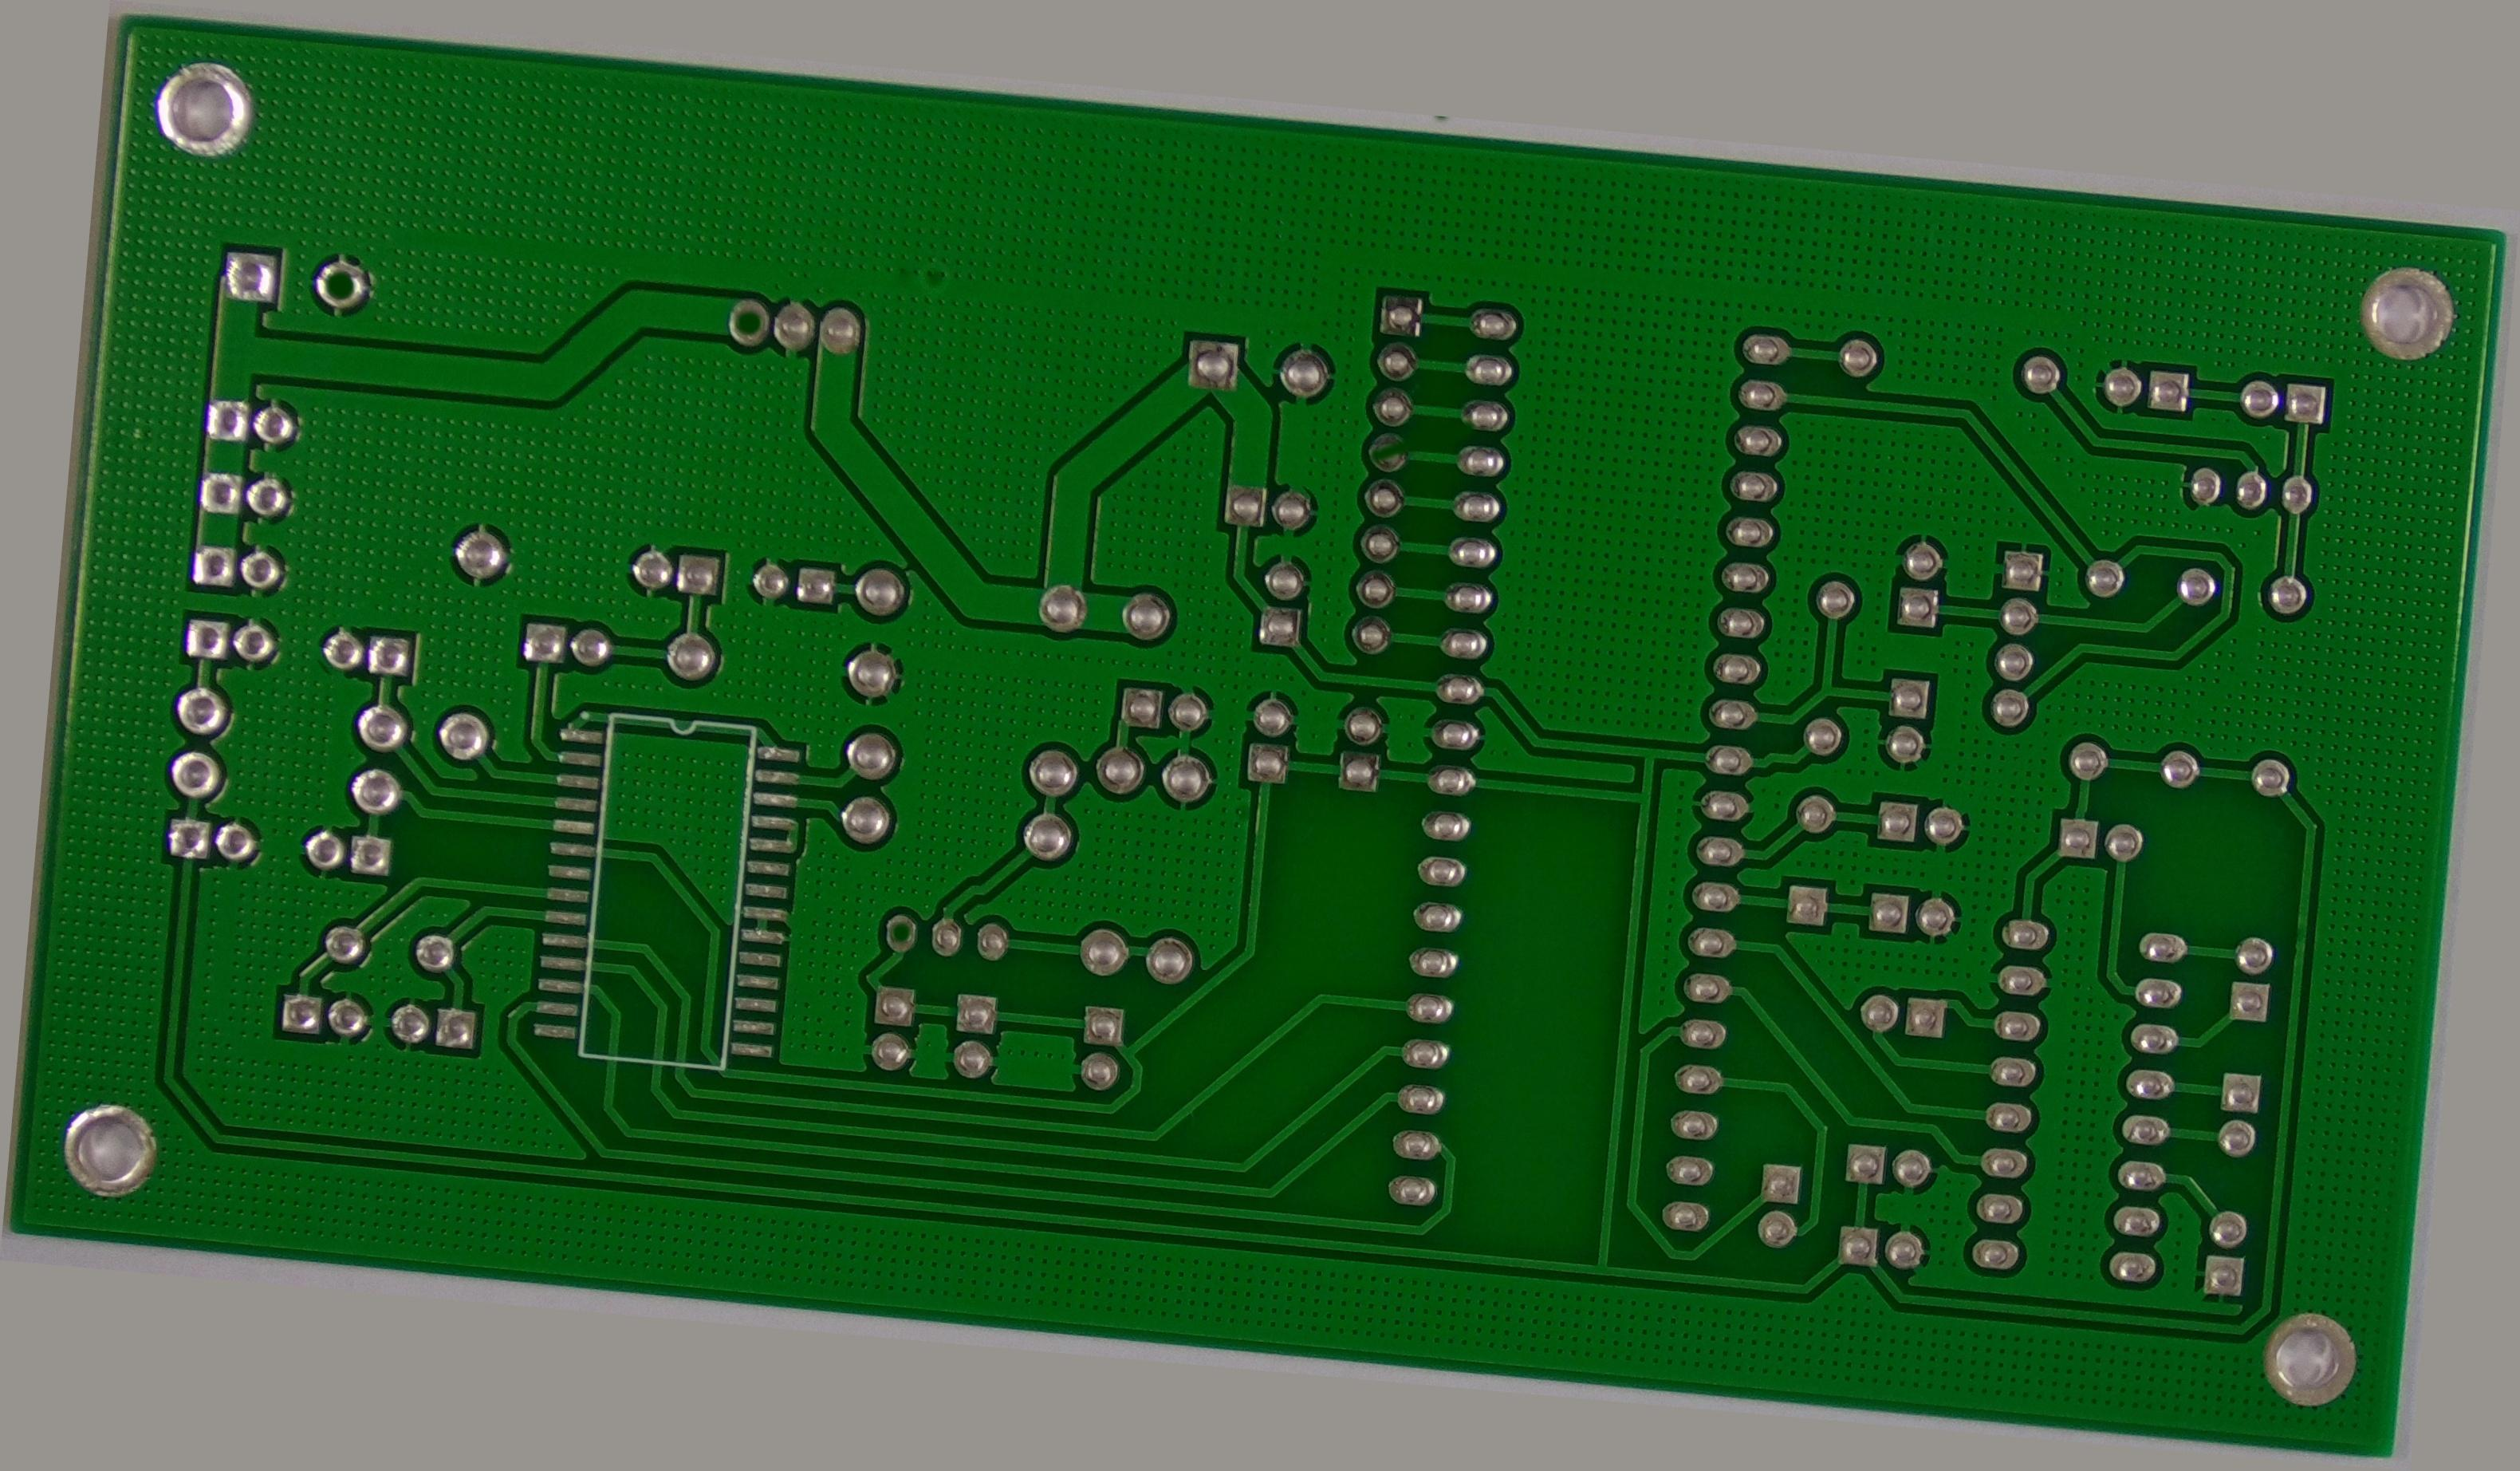missing_hole: (231, 271, 292, 347), (1339, 362, 1391, 426), (667, 275, 714, 338), (885, 974, 921, 1026)
